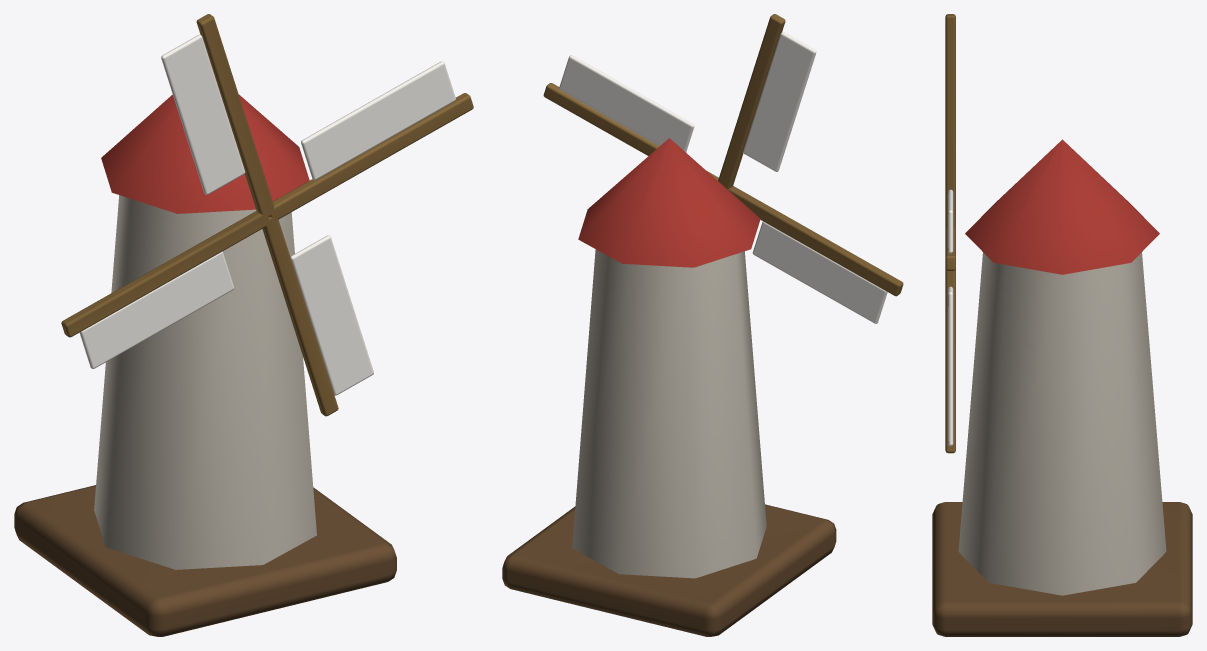
File: furn_mini_windmill.glb
3 views of the same model, side by side, from view 1: azimuth 30°, elevation 25°; view 2: azimuth 150°, elevation 25°; view 3: azimuth 270°, elevation 25° (orthographic). The views are drawn at different scales.
Parts seen in each view (by area): view 1: furn_mini_windmill_main, furn_mini_windmill_move; view 2: furn_mini_windmill_main, furn_mini_windmill_move; view 3: furn_mini_windmill_main, furn_mini_windmill_move.
Boxes of the visible parts, bbox=[...] form: furn_mini_windmill_main: bbox=[14, 94, 396, 636]; furn_mini_windmill_move: bbox=[61, 14, 473, 416]; furn_mini_windmill_main: bbox=[502, 138, 836, 636]; furn_mini_windmill_move: bbox=[543, 14, 903, 323]; furn_mini_windmill_main: bbox=[932, 139, 1192, 636]; furn_mini_windmill_move: bbox=[945, 14, 955, 453].
Bounding box in the file's own units: 0.3272 × 0.4636 × 0.2.
